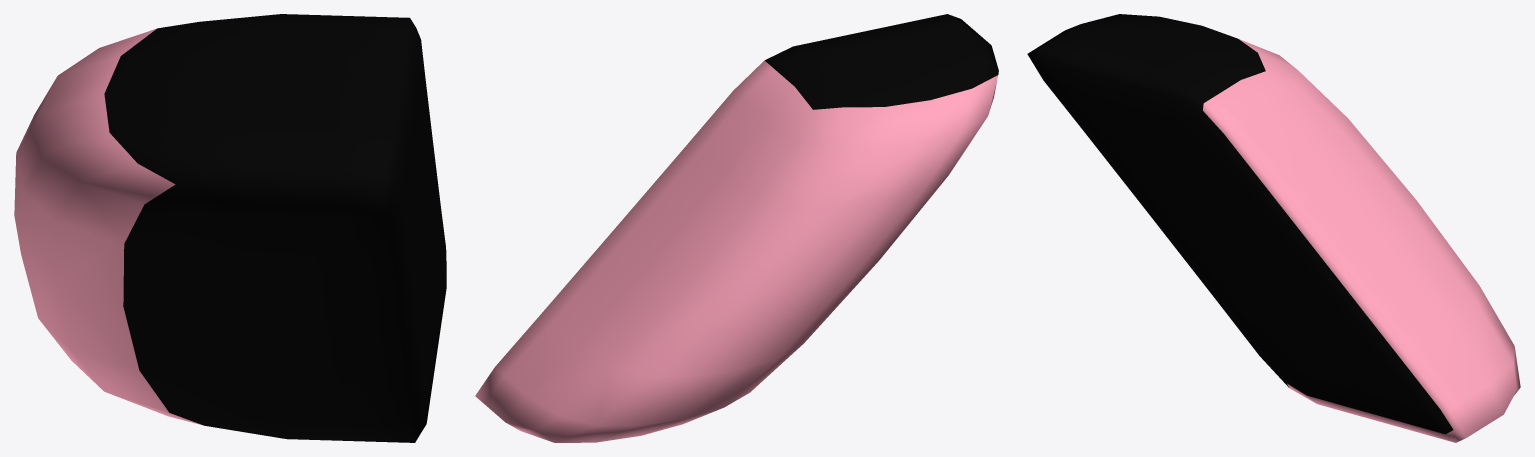
3 renders of one model, left to right at view 1: azimuth 30°, elevation 25°; view 2: azimuth 150°, elevation 25°; view 3: azimuth 270°, elevation 25°, orthographic. The views are drawn at different scales.
Visible parts, largest first — view 1: Box1234; view 2: Box1234; view 3: Box1234.
Boxes of the visible parts, left/top/right/bottom form: Box1234: left=14, top=14, right=446, bottom=442; Box1234: left=475, top=14, right=998, bottom=442; Box1234: left=1027, top=14, right=1520, bottom=442.
Size of the model in its own units: 0.0457 by 0.0357 by 0.0574.
